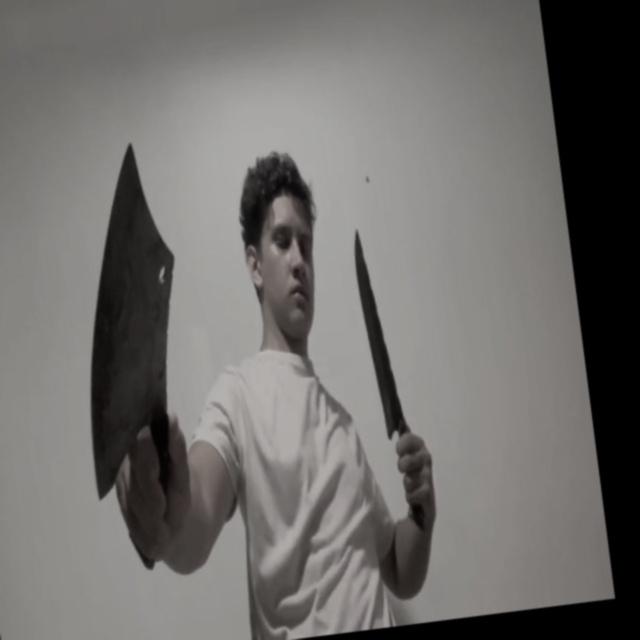Sharp-Object: (54, 139, 205, 498), (351, 225, 406, 439)
